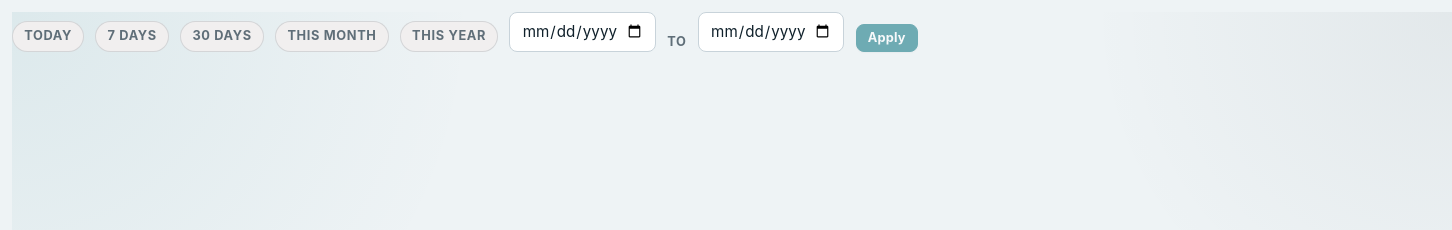
Test: DateRangeFilter Component › enables Apply button when both dates are set
The image size is (1452, 230).
Type "2024-05-01" into the 1st date field.
click(583, 32); type("2024-05-01")  # box [509,12,656,52]
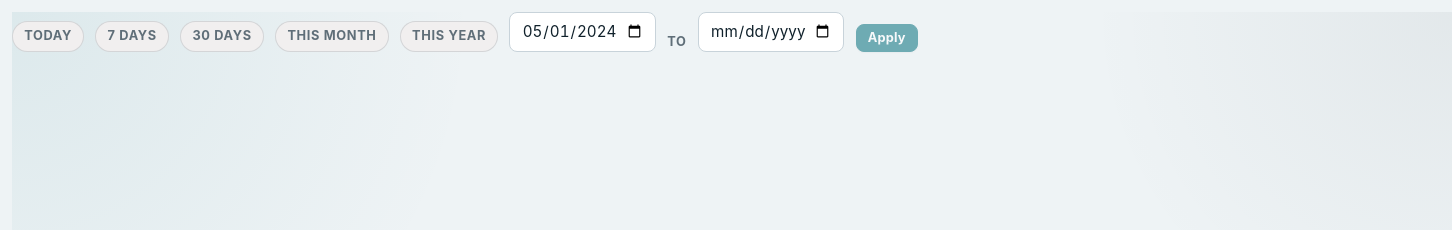
Type "2024-05-31" into the 2nd date field.
click(771, 32); type("2024-05-31")  # box [698,12,844,52]
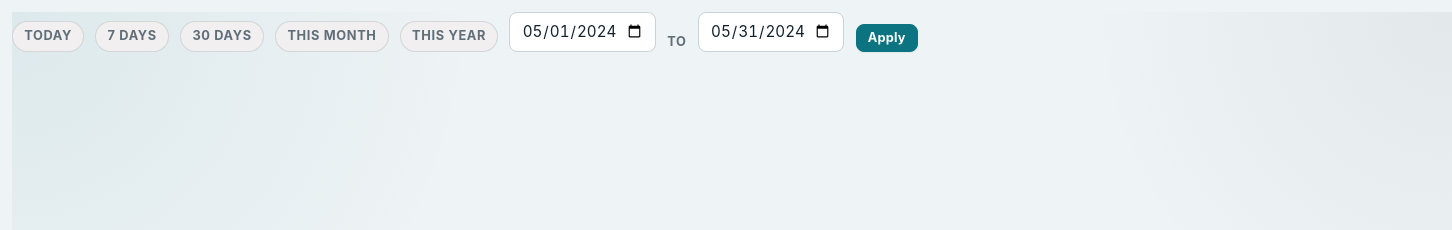
Result: the button "Apply" is enabled at [856,24,918,52]
